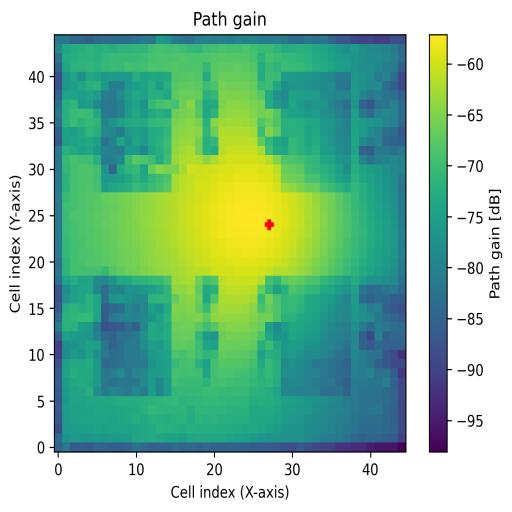Concrete: (282, 71, 351, 192)
Glass: (100, 72, 172, 194)
Metal: (280, 276, 352, 396)
Wood: (92, 276, 171, 396)
